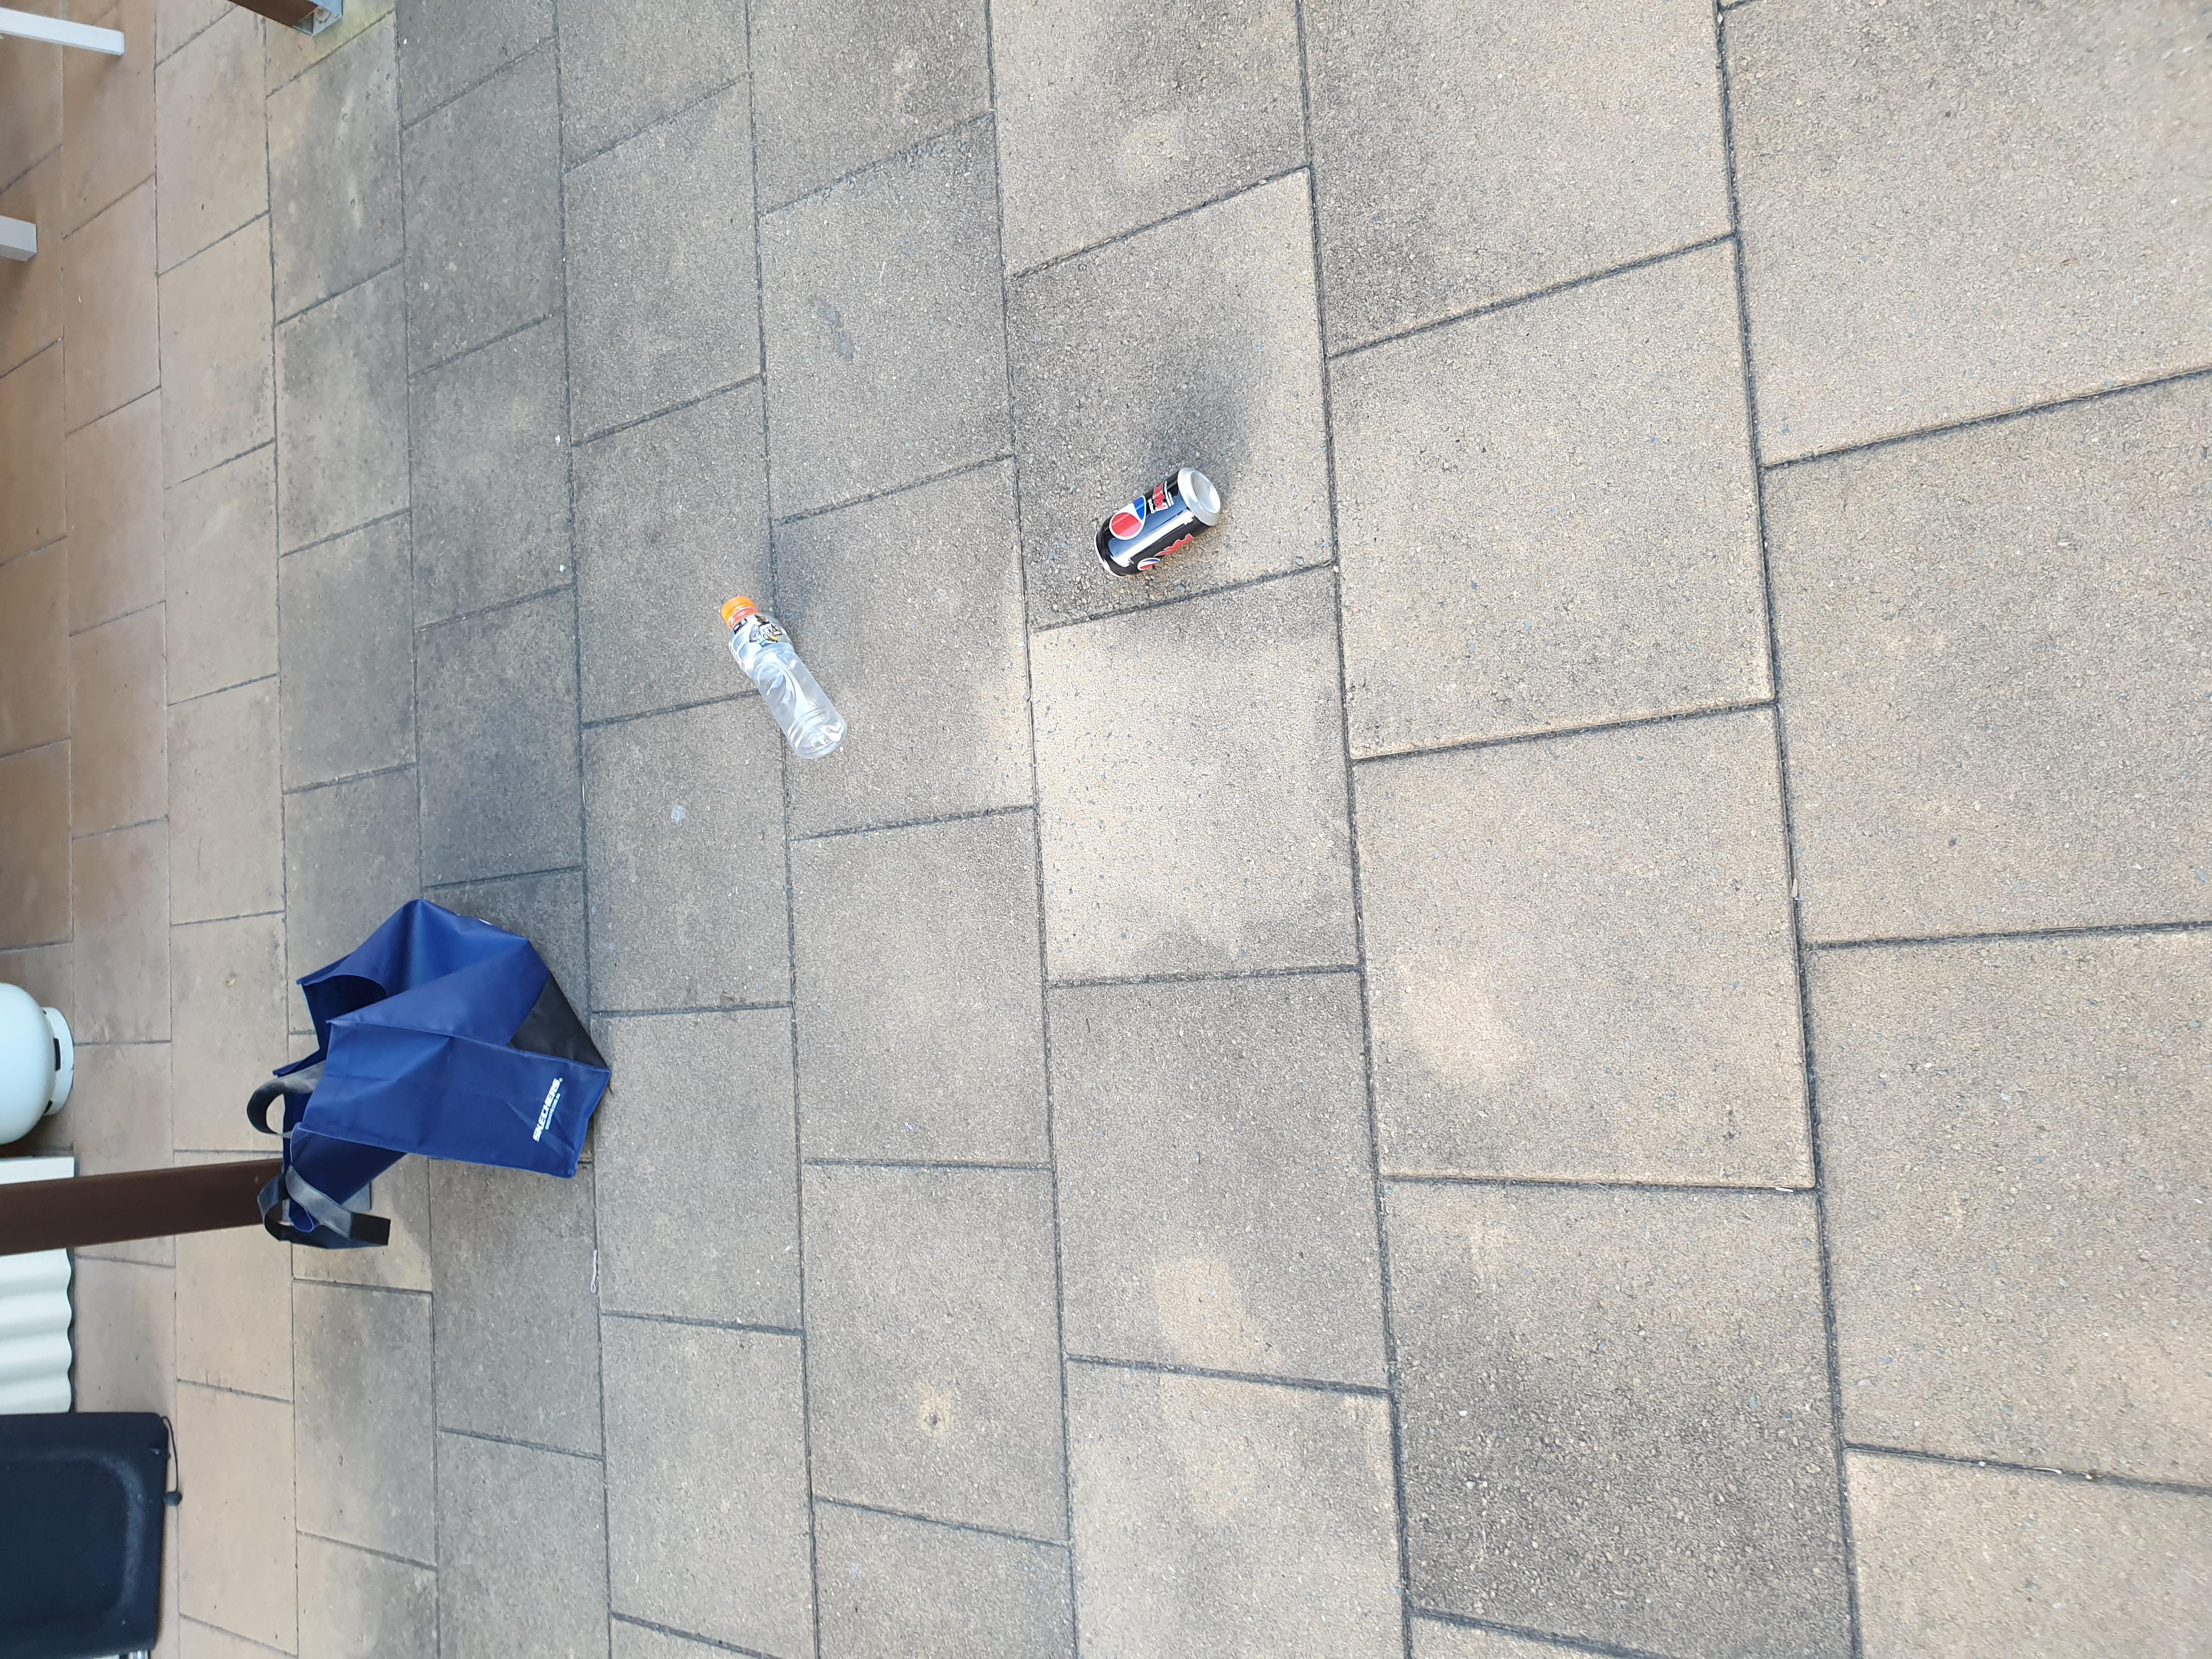Plastic Bottle: (721, 596, 846, 756), (1094, 467, 1219, 579)
